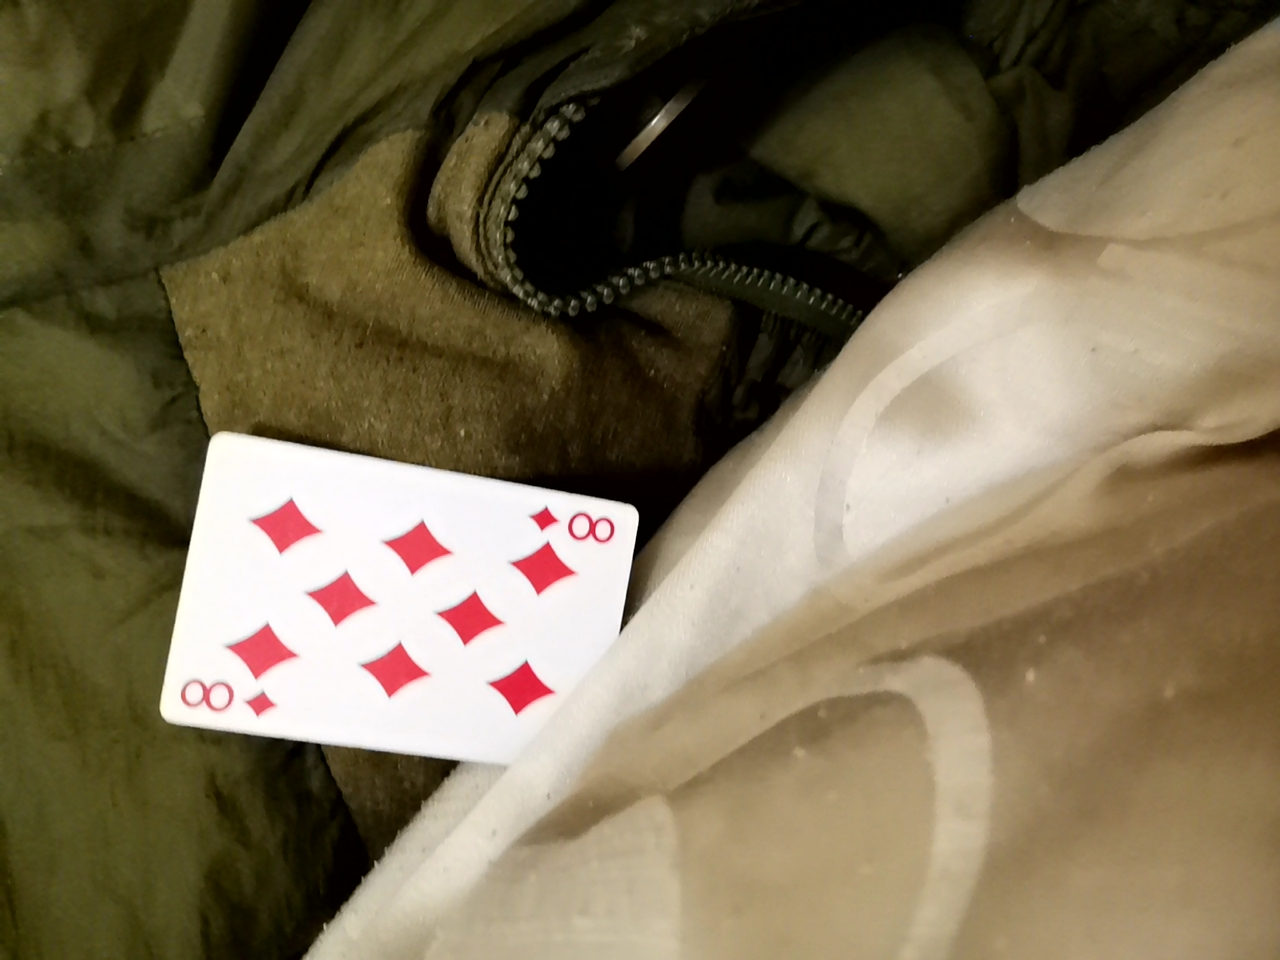fk 8: (145, 437, 642, 772)
